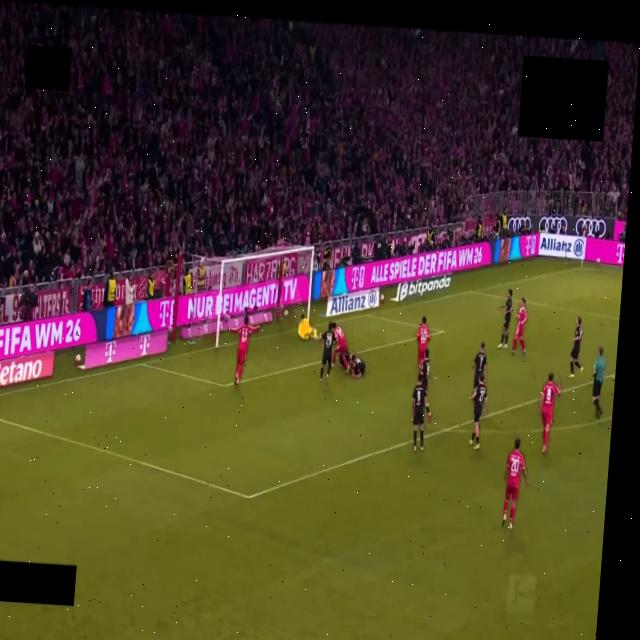ball: (283, 309, 288, 316)
player: (502, 438, 528, 530), (229, 316, 259, 385), (539, 373, 561, 452), (470, 375, 487, 449), (412, 375, 427, 451), (320, 322, 335, 383), (569, 317, 583, 377), (512, 299, 527, 355), (498, 289, 512, 348), (333, 323, 348, 371), (417, 317, 430, 366), (473, 343, 487, 388), (298, 315, 318, 340), (420, 350, 430, 393), (420, 349, 430, 391), (347, 355, 365, 377)
referee: (592, 348, 605, 418)
